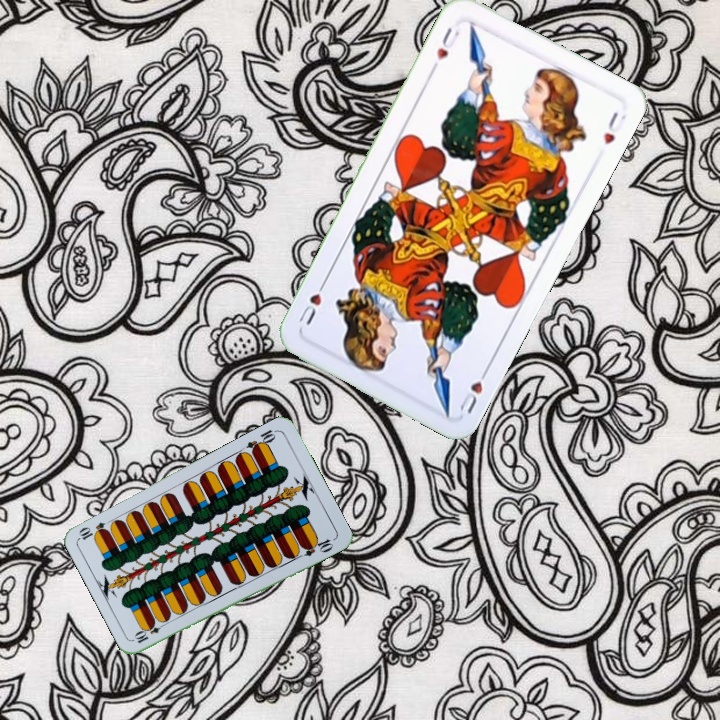E10: (242, 425, 280, 456), (131, 617, 169, 646)
HU: (454, 362, 492, 416), (432, 23, 462, 63)
